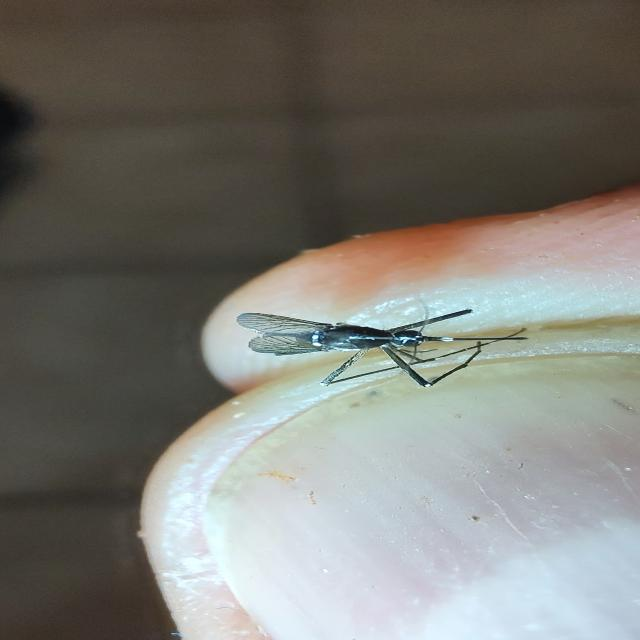albopictus: (232, 296, 535, 390)
